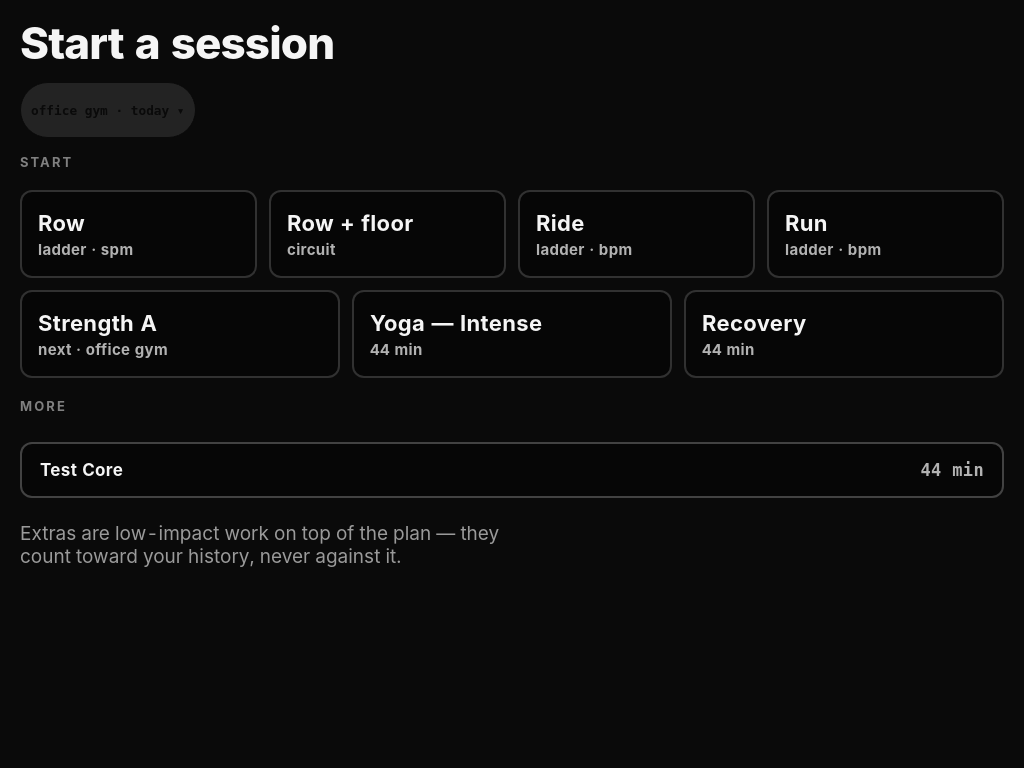
Test: Quick start (QUICK-START) › a room with no strength has no Strength button, and the cardio buttons are always there
Expected: the element with test id "quick-start" is shown, [20,154,1004,378]
Click the button with aria-label "Change location for this session" at (108, 110), box [20,82,196,138]
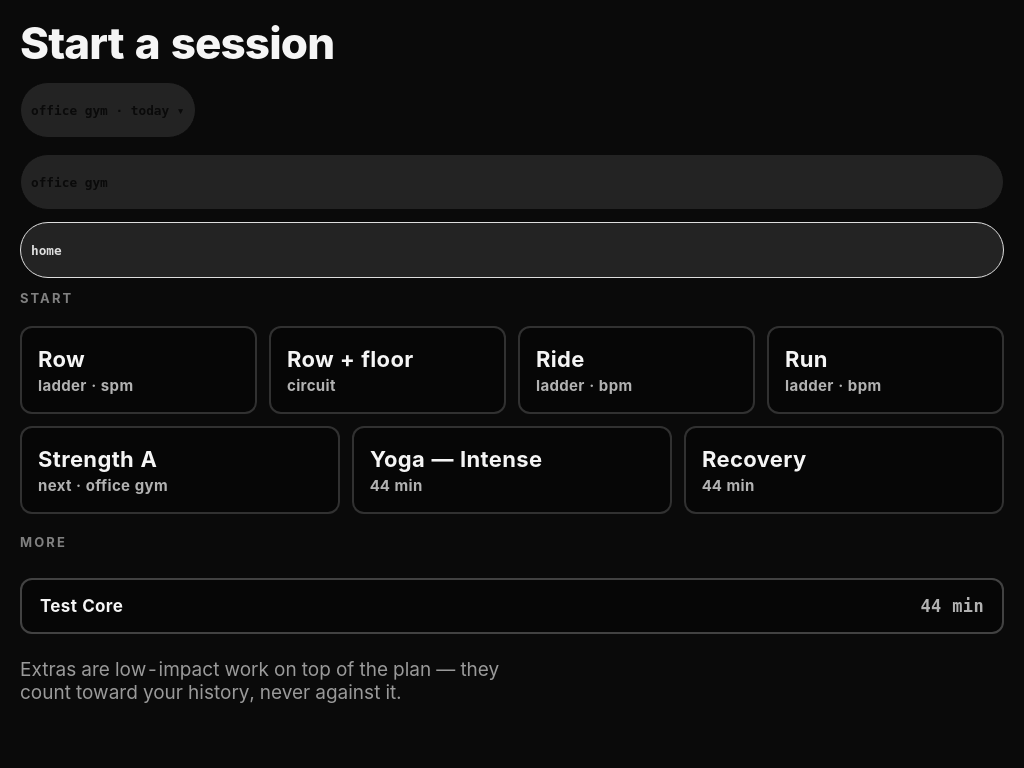
Click the button "home" at (46, 250), box [20,222,1004,278]
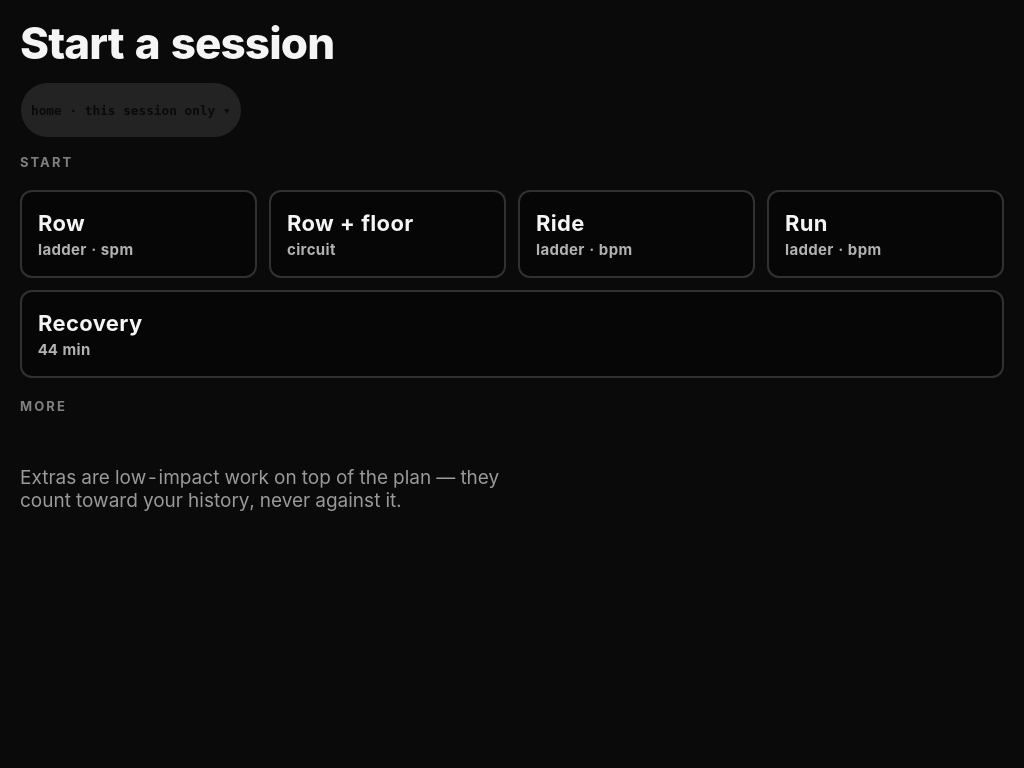
Expected: the button with test id "quick-row" showing "Row ladder · spm" is shown, [20,190,257,278]
Expected: the button with test id "quick-strength" is gone
